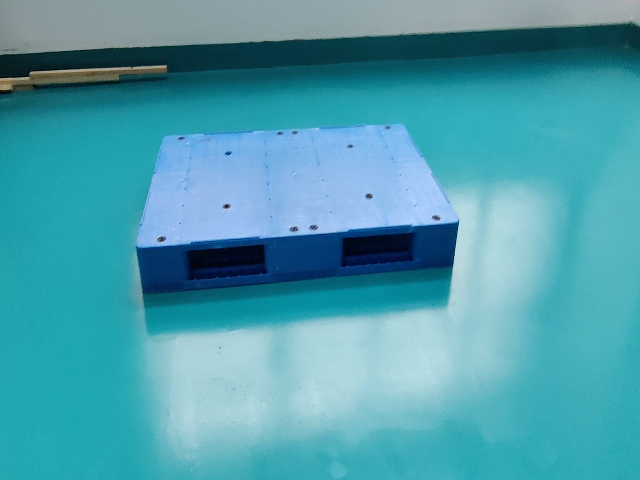block: (268, 235, 343, 283), (136, 246, 186, 298), (413, 226, 460, 270)
